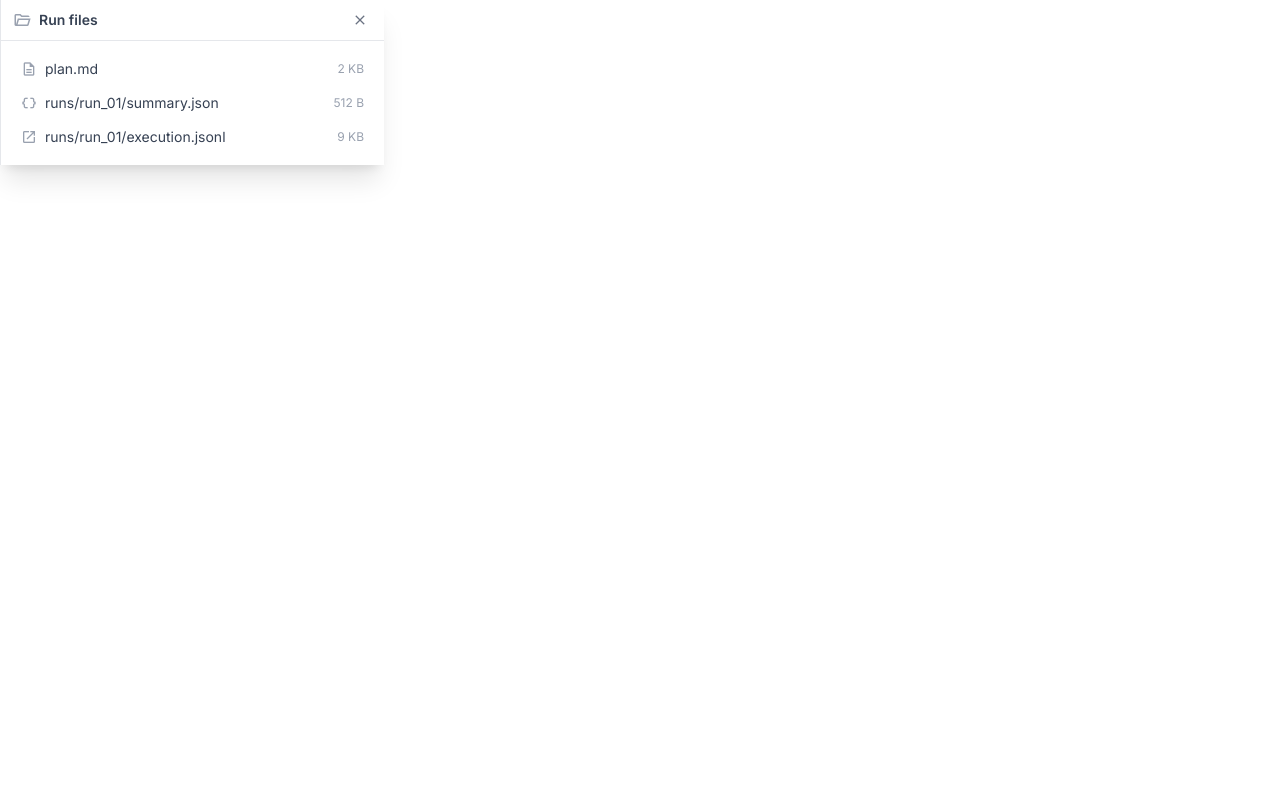
CompanionDrawer › shows the truncation notice from X-Truncated
Click the text "plan.md": (72, 69) [45,59,98,79]
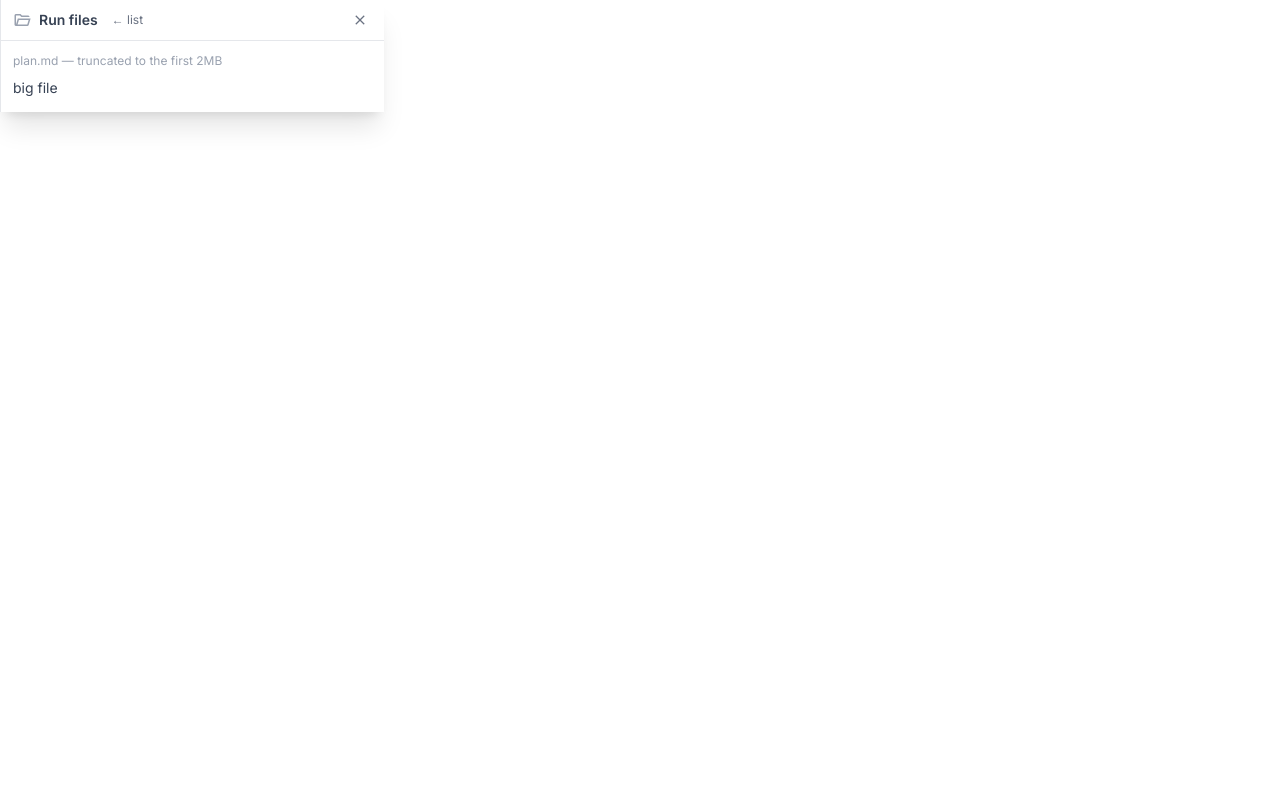
Expected: the text "plan.md — truncated to the first 2MB" is shown, [13,53,222,68]
